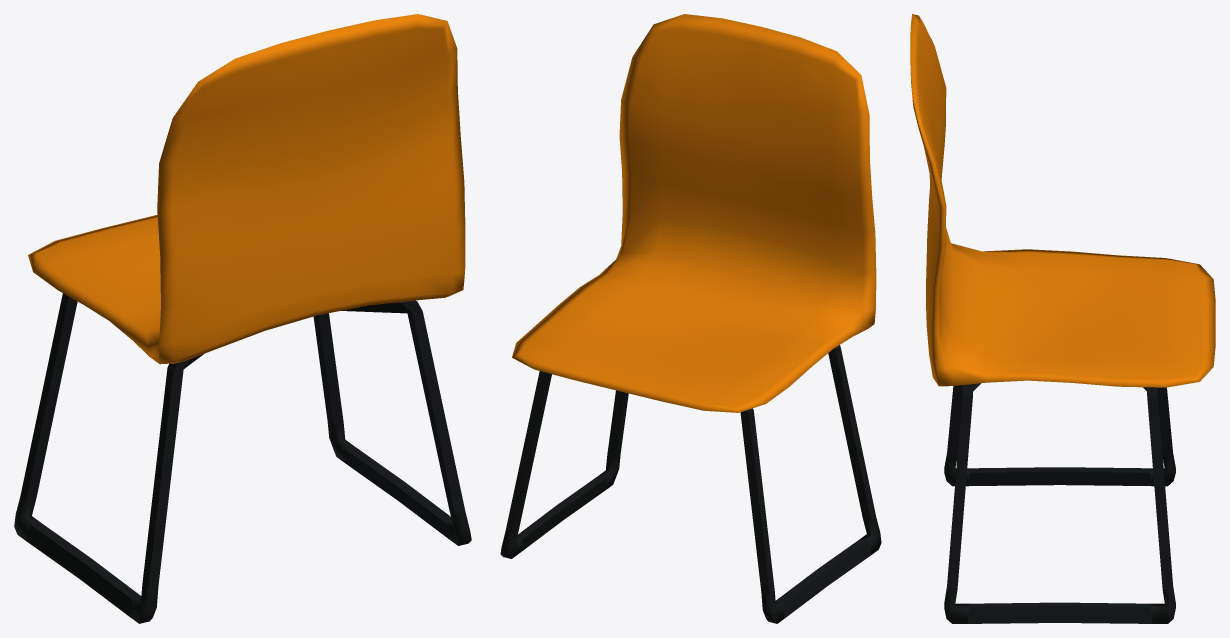
The model's file is Chair.fbx.
3 renders of one model, left to right at view 1: azimuth 30°, elevation 25°; view 2: azimuth 150°, elevation 25°; view 3: azimuth 270°, elevation 25°, orthographic. The views are drawn at different scales.
Visible parts, largest first — view 1: Cube, 平面; view 2: Cube, 平面; view 3: Cube, 平面.
Boxes of the visible parts, x1,y1,x2,y2 form: Cube: (28,14,465,364); 平面: (14,293,471,623); Cube: (512,14,876,412); 平面: (500,345,881,623); Cube: (910,14,1215,387); 平面: (944,383,1175,623).
Size of the model in its own units: 444 by 734 by 403.
